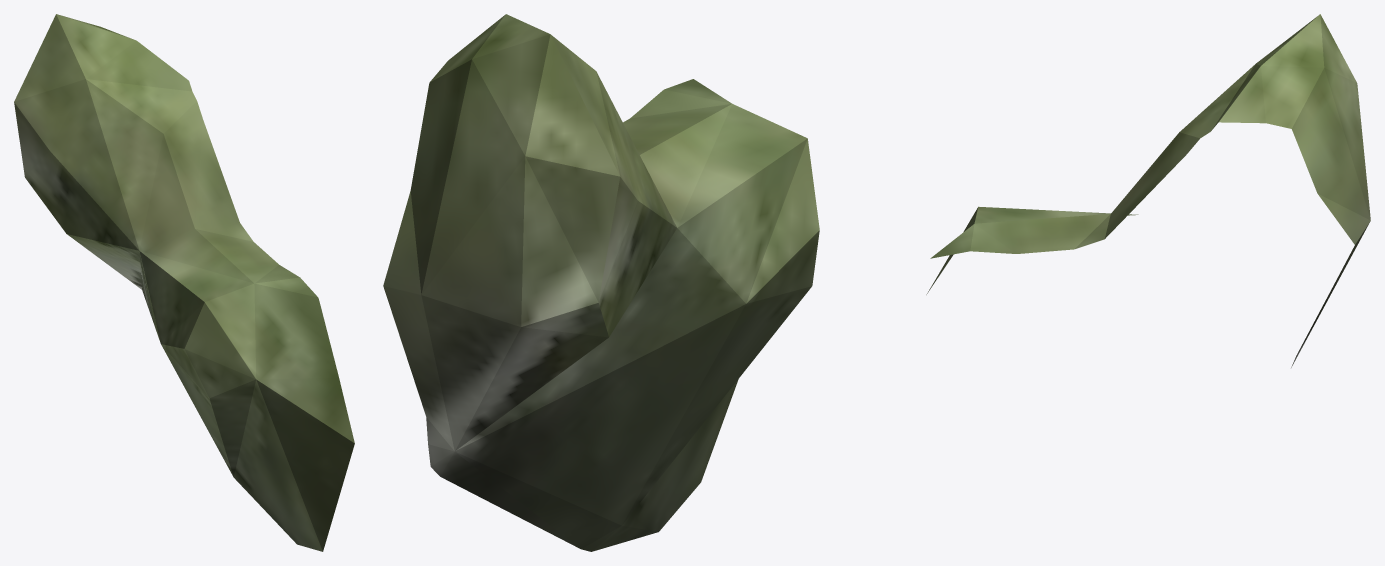
3 views of the same model, side by side, from view 1: azimuth 30°, elevation 25°; view 2: azimuth 150°, elevation 25°; view 3: azimuth 270°, elevation 25° (orthographic). The views are drawn at different scales.
Size of the model in its own units: 0.2266 by 0.7337 by 0.7087.
Materials: 1 (1 with a texture image).
